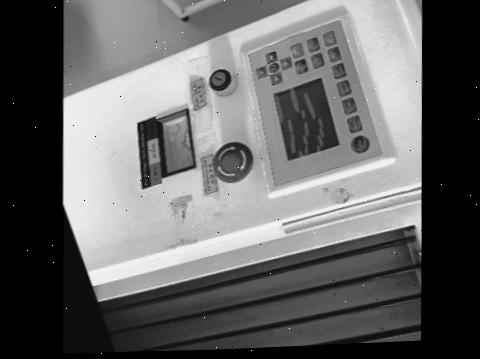Amp_Meter: (157, 107, 196, 176)
Display: (276, 76, 340, 157)
Down_button: (281, 55, 293, 68)
Emergency_Stop: (213, 140, 254, 181)
Enter_button: (291, 41, 304, 56)
Esc_button: (295, 57, 309, 72)
File_button: (328, 45, 342, 60)
Frame_button: (307, 35, 320, 51)
Left_button: (271, 71, 283, 83)
Max-Power_button: (333, 61, 347, 77)
Min-Power_button: (338, 78, 352, 95)
Origin_button: (312, 51, 325, 67)
Power_switch: (209, 67, 238, 94)
Pulse_button: (348, 114, 363, 131)
Reset_button: (352, 134, 370, 151)
Right_button: (267, 49, 278, 61)
Speed_button: (343, 96, 357, 113)
Start-Pause_button: (323, 29, 337, 44)
Up_button: (256, 64, 269, 77)
Z_U_button: (269, 61, 280, 71)
